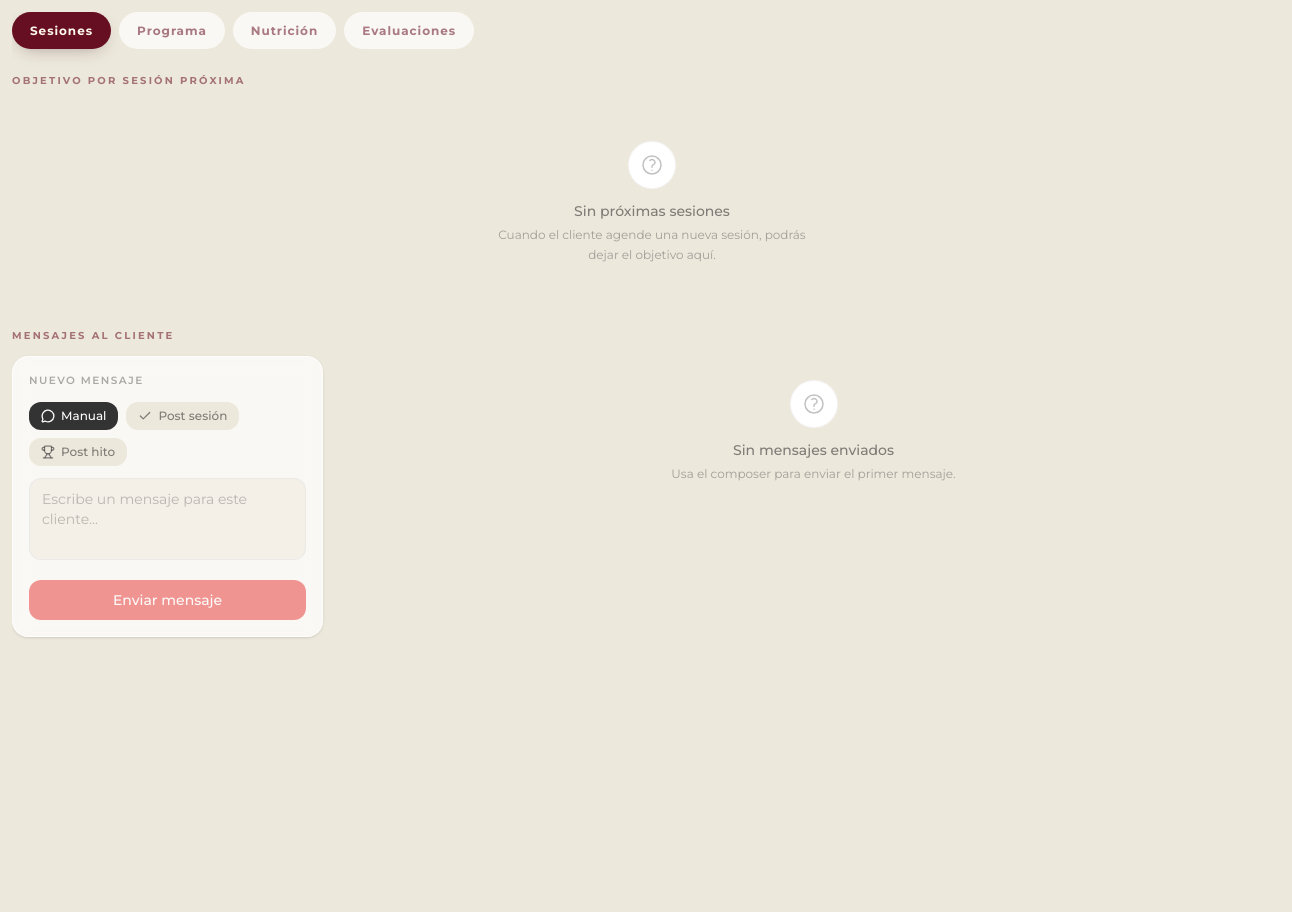
Test: NotesTab › prefills a module note textarea from the latest evaluation
Step 1. Click the button "Evaluaciones" → [409, 31], box [344,12,474,49]
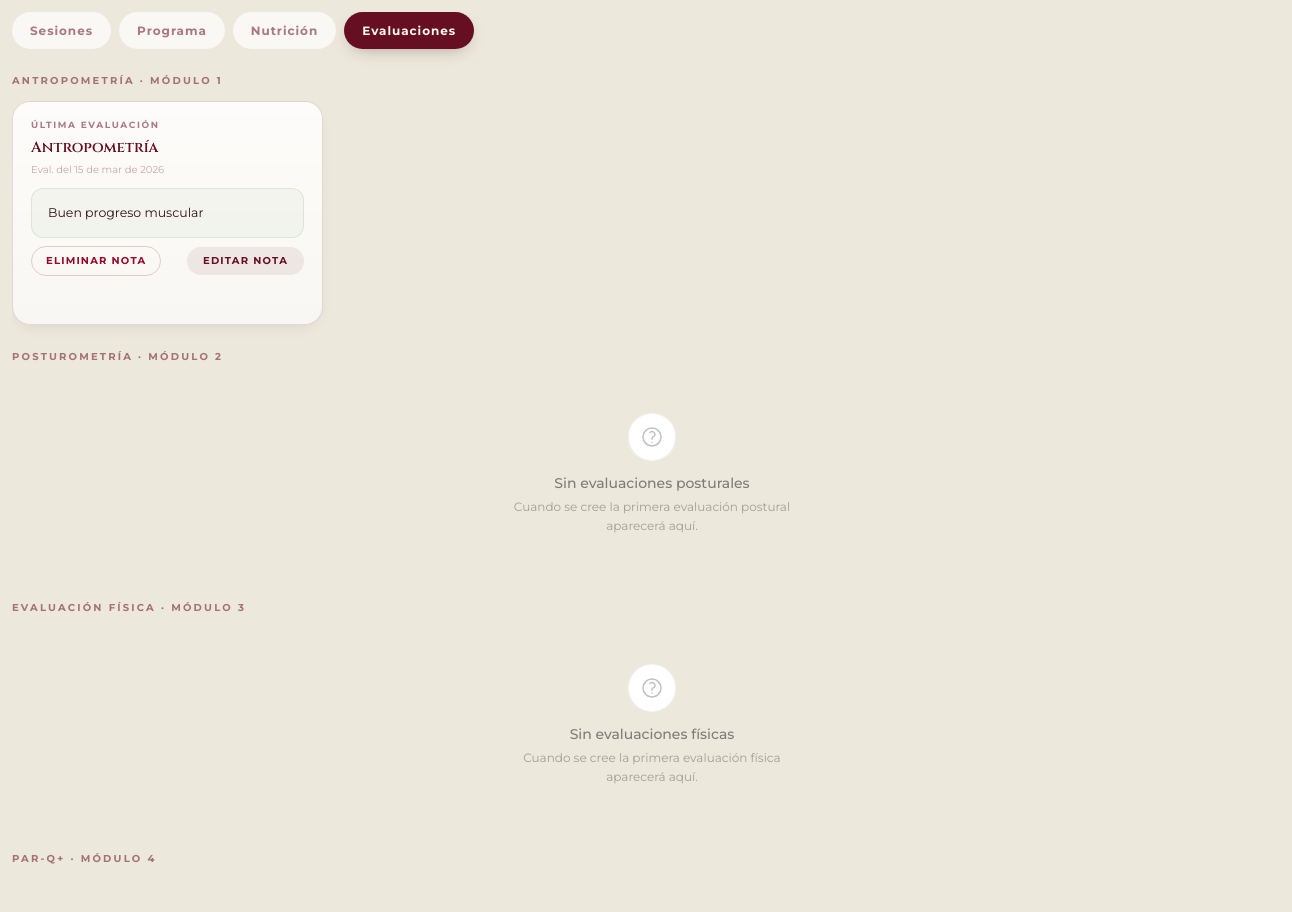
Check: the text "Buen progreso muscular" is shown, box [48,205,203,220]
